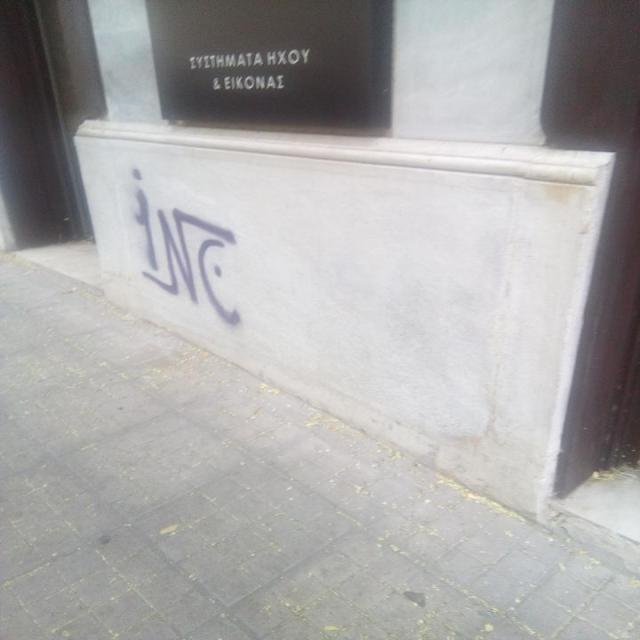nonspitting: (130, 166, 246, 330)
